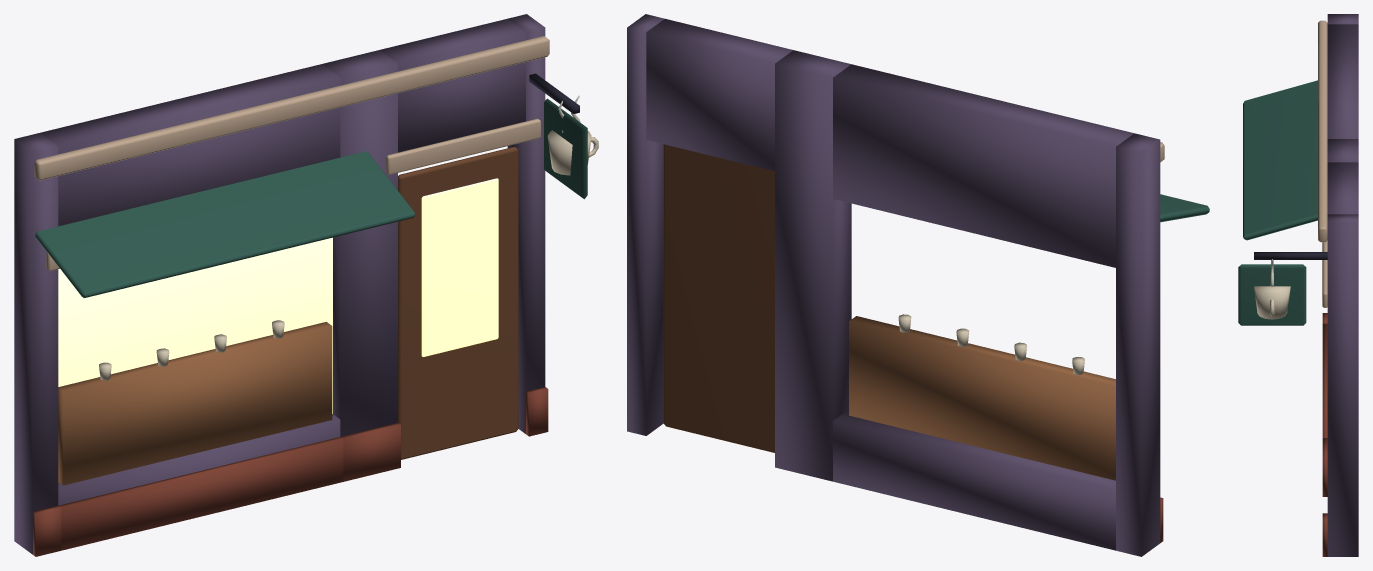
File: coffee_shop_front.glb
3 views of the same model, side by side, from view 1: azimuth 30°, elevation 25°; view 2: azimuth 150°, elevation 25°; view 3: azimuth 270°, elevation 25° (orthographic). The views are drawn at different scales.
Visible parts, largest first — view 1: coffee_shop_front, door; view 2: coffee_shop_front, door; view 3: coffee_shop_front.
Part boxes in pixels (x1,y1,x2,y2): coffee_shop_front: [14, 14, 598, 556]; door: [398, 146, 518, 459]; coffee_shop_front: [627, 14, 1209, 556]; door: [663, 144, 774, 452]; coffee_shop_front: [1238, 14, 1358, 556].
Size of the model in its own units: 4.16 by 3 by 0.975.
